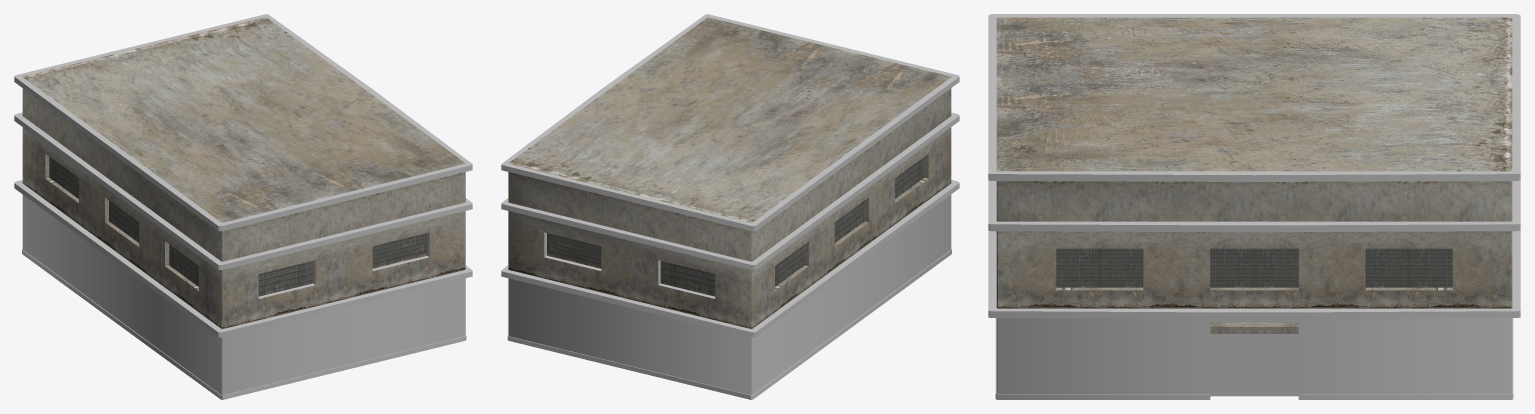
Rendered from WarehouseBrickB.FBX.
The picture shows the model from 3 angles, left to right: view 1: azimuth 30°, elevation 25°; view 2: azimuth 150°, elevation 25°; view 3: azimuth 270°, elevation 25°; orthographic projection. The views are drawn at different scales.
Parts seen in each view (by area): view 1: WarehouseBrickB; view 2: WarehouseBrickB; view 3: WarehouseBrickB.
Boxes of the visible parts, x1=… form: WarehouseBrickB: x1=14, y1=14, x2=472, y2=399; WarehouseBrickB: x1=501, y1=14, x2=959, y2=399; WarehouseBrickB: x1=988, y1=14, x2=1520, y2=399.
Size of the model in its own units: 1262 by 831 by 1757.
